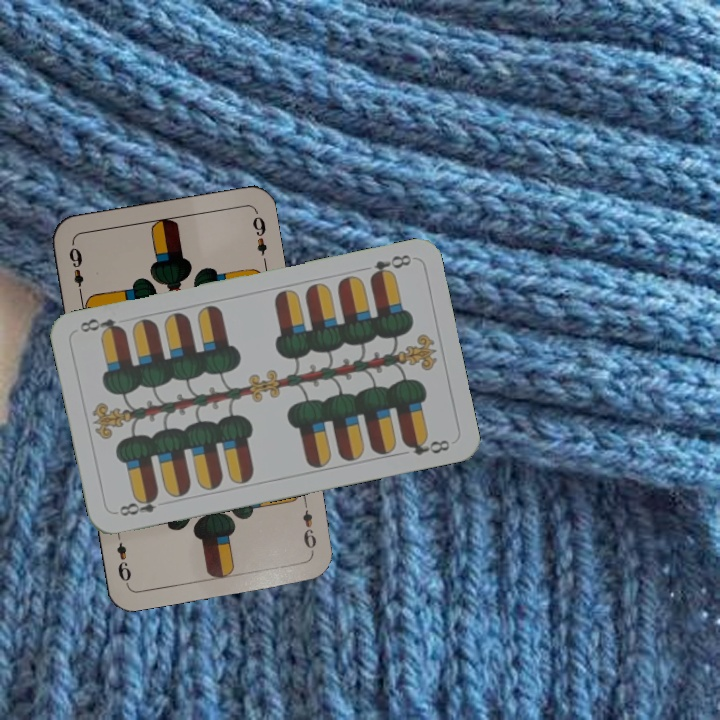E8: (365, 250, 414, 282), (112, 490, 161, 519)
E9: (64, 243, 87, 299), (298, 496, 319, 555)
